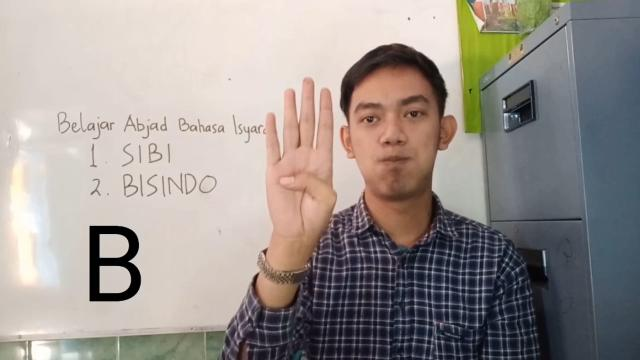B: (262, 75, 338, 245)
